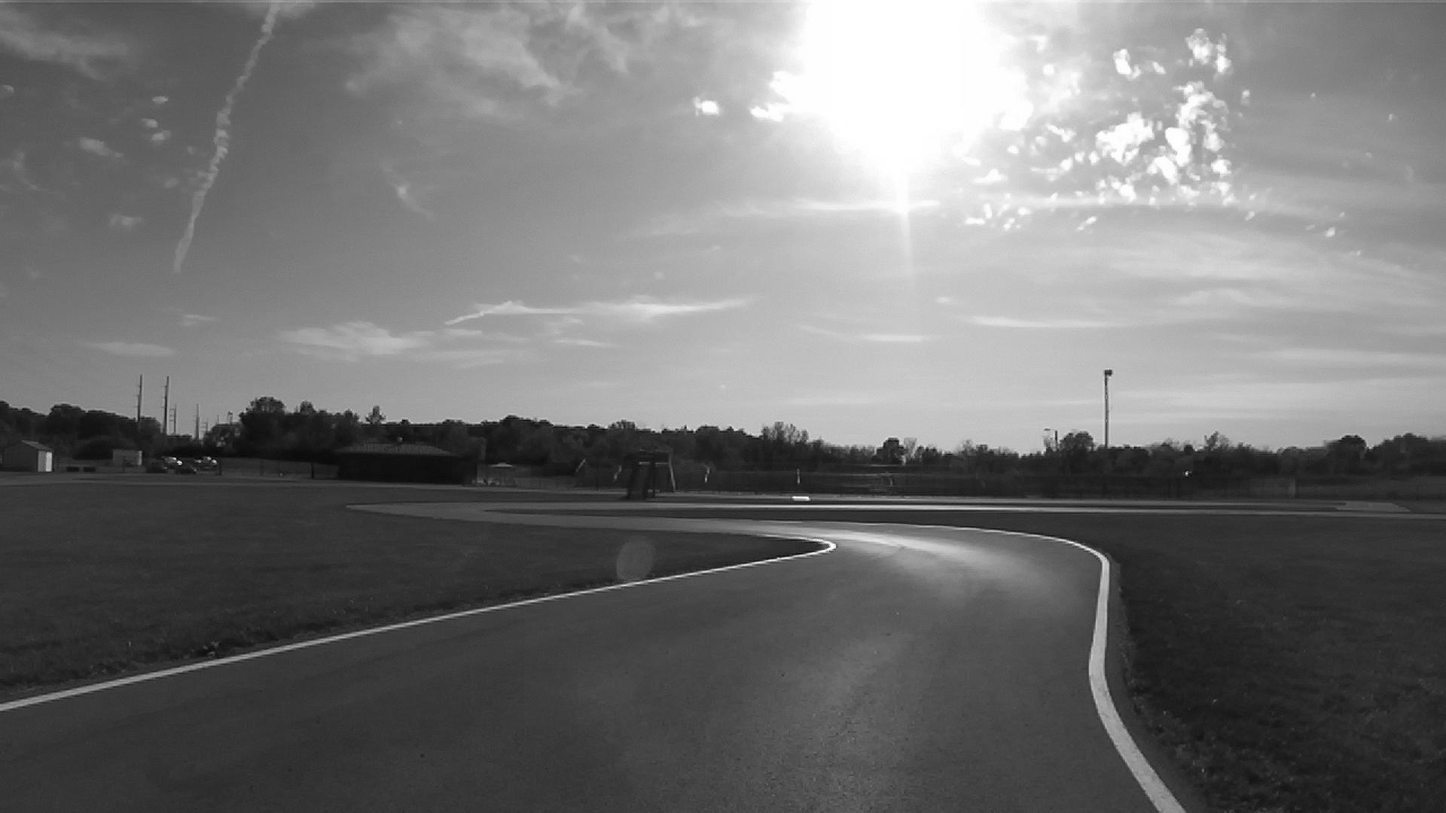white-line: (0, 539, 836, 711), (942, 526, 1184, 812)
